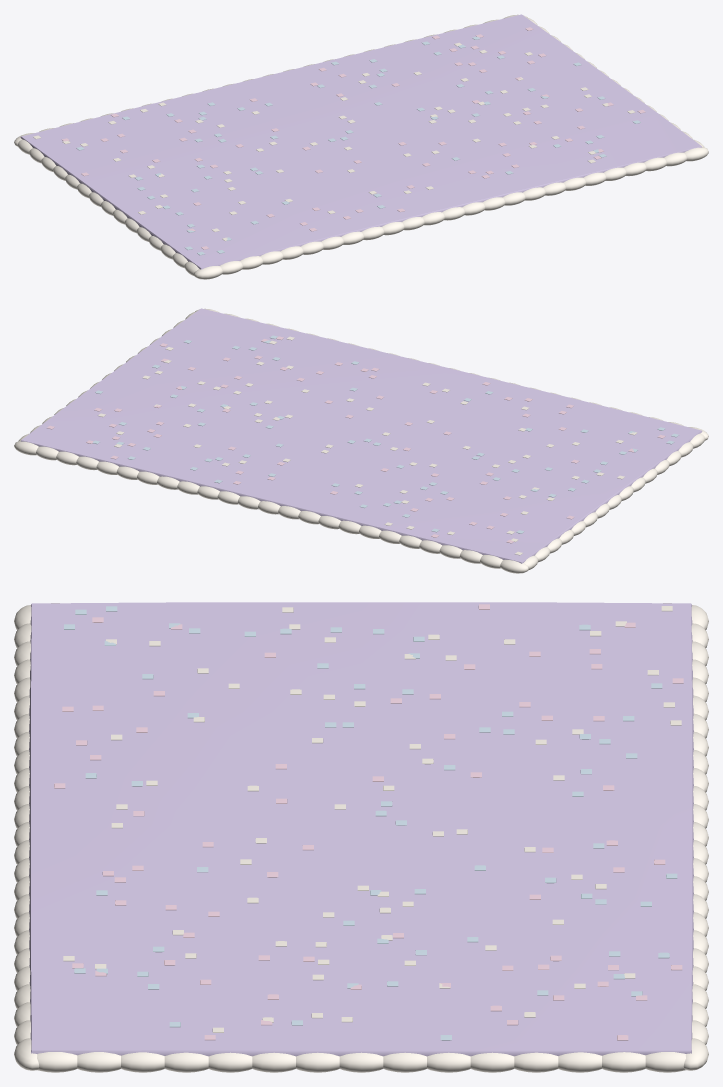
The model's file is floor_cloud_platform.glb.
3 renders of one model, top to bottom at view 1: azimuth 30°, elevation 25°; view 2: azimuth 150°, elevation 25°; view 3: azimuth 270°, elevation 25°, orthographic. The views are drawn at different scales.
Parts seen in each view (by area): view 1: floor slab; view 2: floor slab; view 3: floor slab, shallow side cloud (×15).
Part boxes in pixels (box(x1,y1,x2,y2)): floor slab: box(20, 14, 702, 269); floor slab: box(20, 308, 702, 563); floor slab: box(29, 602, 693, 1056); shallow side cloud (×15): box(37, 1052, 685, 1072).
Size of the model in its own units: 16.35 by 0.404 by 10.45.
